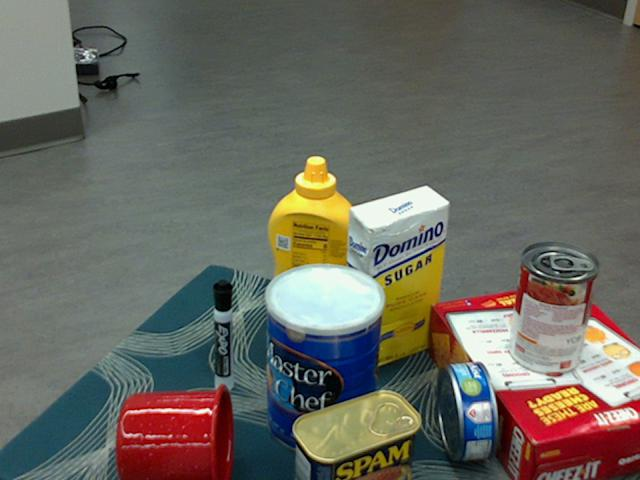cracker_box: (425, 283, 639, 479)
large_marker: (211, 278, 232, 391)
master_chef_can: (266, 264, 386, 458)
mug: (115, 384, 233, 479)
mustard_bottle: (266, 156, 360, 336)
potted_meat_can: (293, 390, 422, 479)
sugar_box: (340, 187, 450, 372)
tomato_soup_can: (507, 243, 598, 376)
tuna_fish_can: (438, 361, 499, 461)
